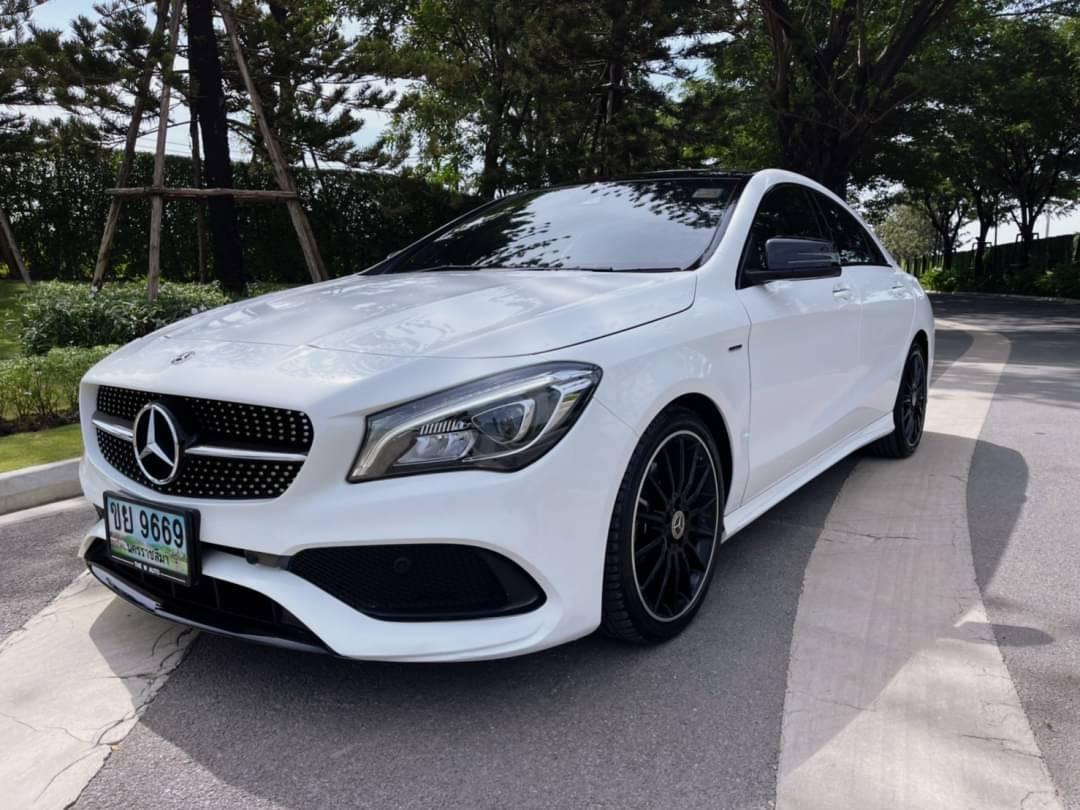license-plate: (104, 484, 195, 585)
